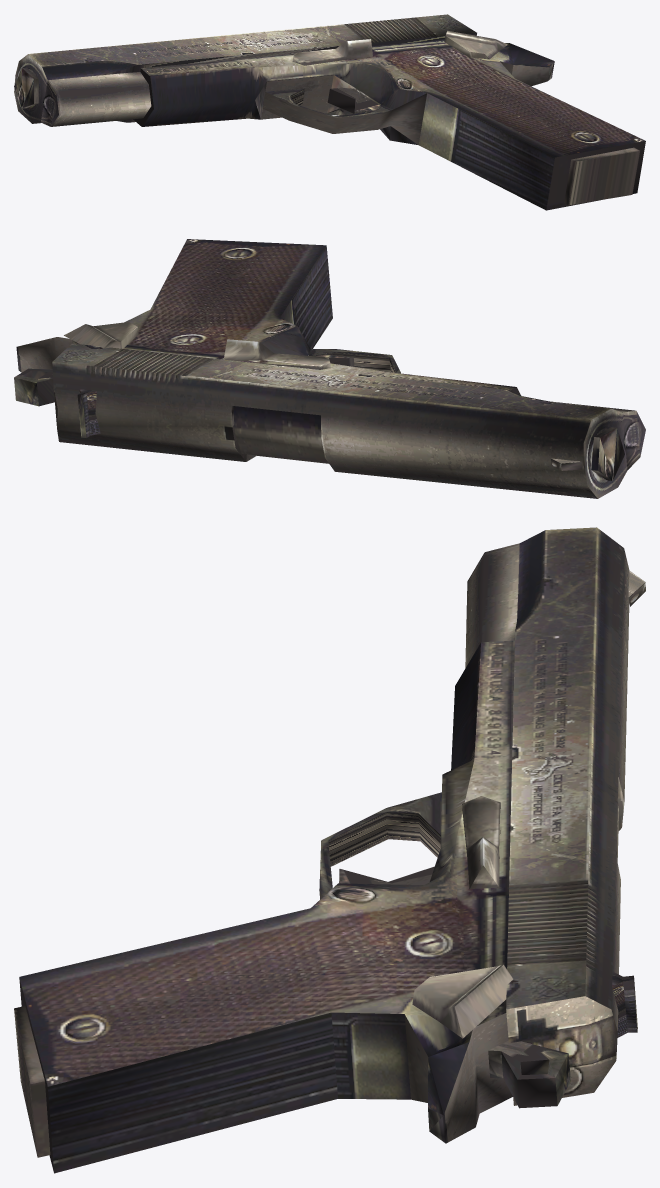
The model's file is colt_1st.glb.
3 renders of one model, top to bottom at view 1: azimuth 30°, elevation 25°; view 2: azimuth 150°, elevation 25°; view 3: azimuth 270°, elevation 25°, orthographic. The views are drawn at different scales.
Parts seen in each view (by area): view 1: _colt_1st; view 2: _colt_1st; view 3: _colt_1st.
Boxes of the visible parts, x1,y1,x2,y2 form: _colt_1st: (14, 14, 645, 210); _colt_1st: (14, 239, 645, 498); _colt_1st: (14, 527, 645, 1173).
Bounding box in the file's own units: 0.2893 × 0.0778 × 0.1794.
Materials: 1 (1 with a texture image).
